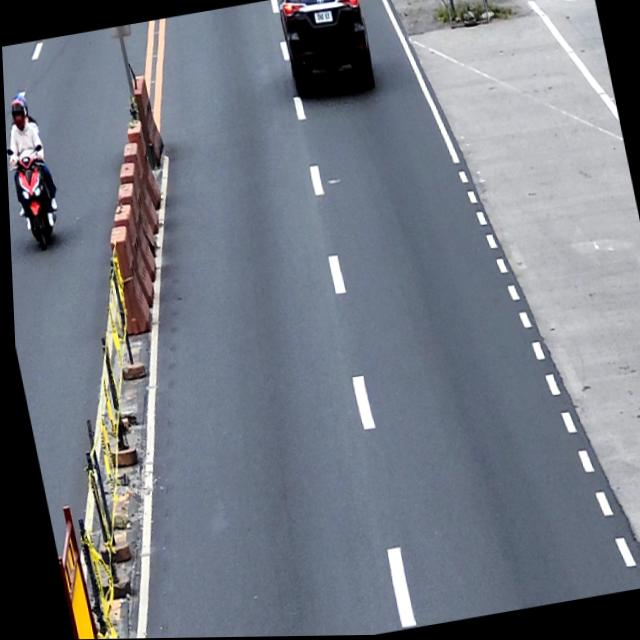Car: (275, 0, 378, 102)
License-Plate: (312, 8, 334, 26)
Motorcycle: (5, 140, 64, 254)
